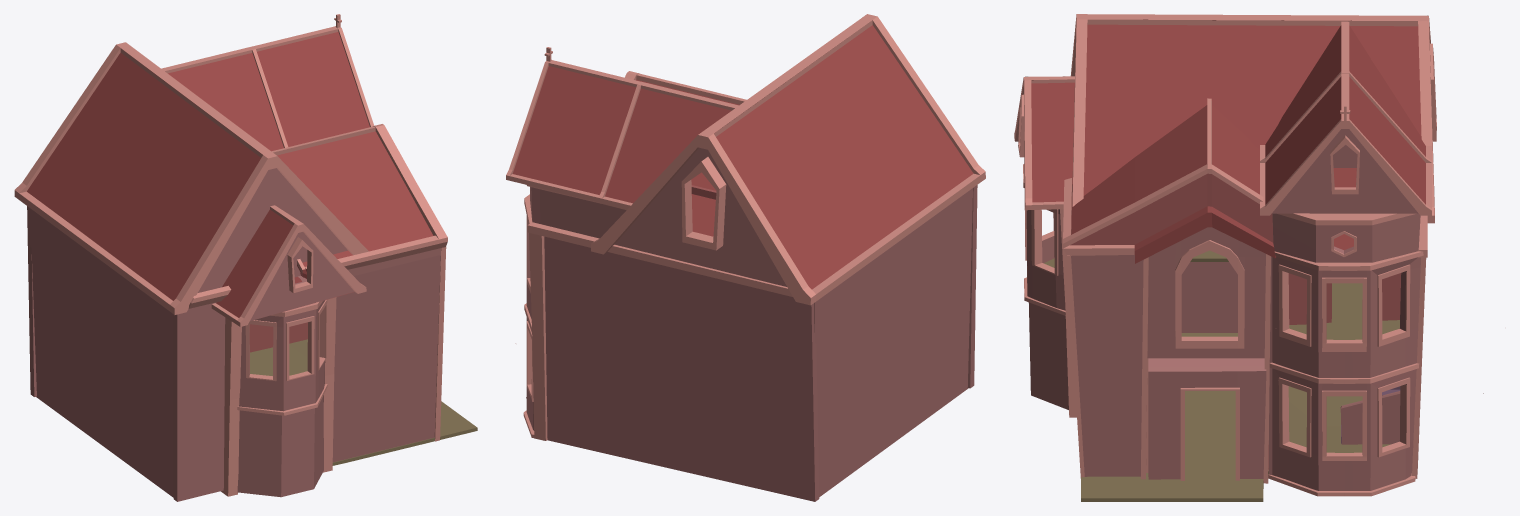
Rendered from do_stairs_work_p2.fbx.
3 views of the same model, side by side, from view 1: azimuth 30°, elevation 25°; view 2: azimuth 150°, elevation 25°; view 3: azimuth 270°, elevation 25° (orthographic). The views are drawn at different scales.
Visible parts, largest first — view 1: roof.002, back wall, front wall, roof.001, roof trim.001, roof, fix, roof wall.001, mid walls, collums, trim, L bay (+6 smaller); view 2: Cube, roof.002, back wall, roof.001, roof trim.001, roof wall.001, collums, roof trim, wall, window cross.001, fix, window frame (+2 smaller); view 3: roof.002, mid walls, bay window, front wall, floor, roof.001, roof, window frame, roof trim.001, collums, roof wall, roof.003 (+13 smaller).
Part boxes in pixels (x1,y1,x2,y2): roof.002: (27,52,354,317); back wall: (29,207,173,497); front wall: (332,248,440,462); roof.001: (168,32,369,151); roof trim.001: (14,42,368,326); roof: (277,131,433,283); fix: (173,275,306,501); roof wall.001: (198,168,354,320); mid walls: (237,396,323,497); collums: (221,247,446,496); trim: (188,124,447,308); L bay: (239,300,325,411); Cube: (544,236,819,501); roof.002: (716,25,973,289); back wall: (814,188,972,496); roof.001: (512,66,736,203); roof trim.001: (591,14,985,305); roof wall.001: (615,148,786,286); collums: (527,222,792,440); roof trim: (506,59,738,209); wall: (530,187,626,238); window cross.001: (681,157,726,250); fix: (967,185,977,388); window frame: (523,194,534,437); roof.002: (1031,19,1421,202); mid walls: (1028,227,1266,479); bay window: (1269,256,1483,490); front wall: (1071,255,1143,476); floor: (1044,250,1399,501); roof.001: (1265,25,1425,204); roof: (1071,105,1275,263); window frame: (1268,251,1423,496); roof trim.001: (1014,14,1434,223); collums: (1060,209,1427,483); roof wall: (1272,129,1418,213); roof.003: (1070,173,1273,245).
Bounding box in the file's own units: 852 × 893 × 1033.
